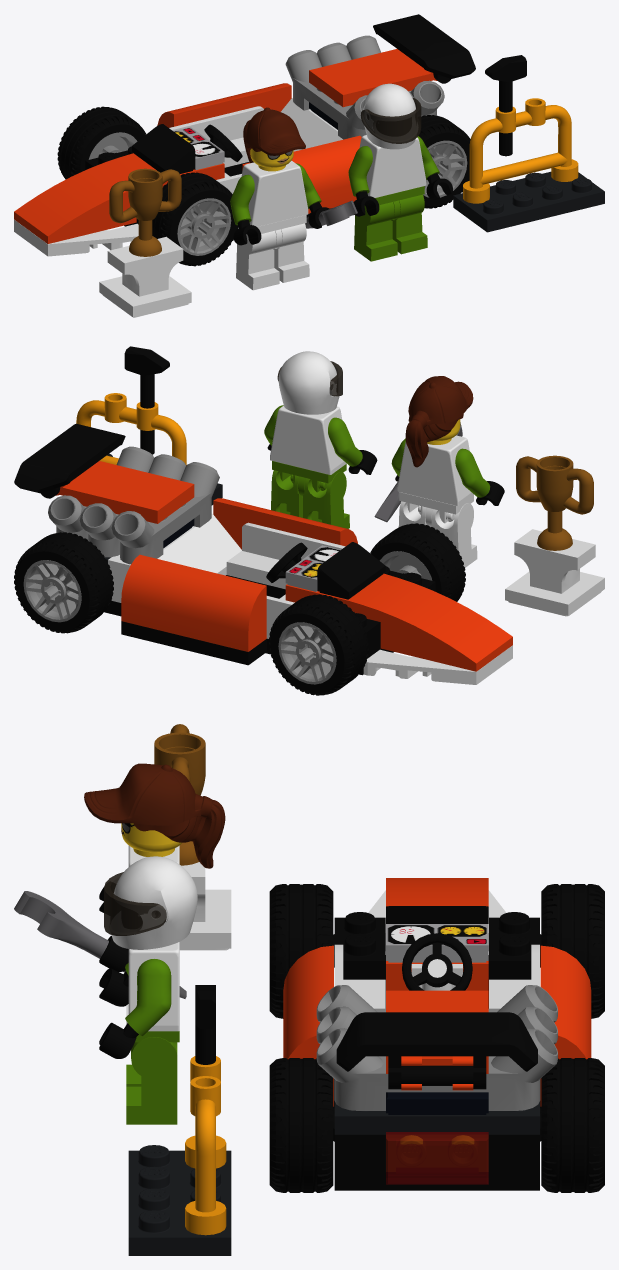
The model's file is Race Car.dae.
3 views of the same model, one above another, from view 1: azimuth 30°, elevation 25°; view 2: azimuth 150°, elevation 25°; view 3: azimuth 270°, elevation 25° (orthographic). The views are drawn at different scales.
Parts seen in each view (by area): view 1: Part.46, Part.35, Part.45, Part.37, Part.18, Part.57, Part.10, Part.23, Part.51, Part.26, Part.48, Part.15 (+33 smaller); view 2: Part.52, Part.46, Part.23, Part.24, Part.37, Part.18, Part.57, Part.48, Part.40, Part.53, Part.15, Part.26 (+28 smaller); view 3: Part.53, Part.57, Part.35, Part.25, Part.24, Part.40, Part.50, Part.26, Part.33, Part.34, Part.45, Part.23 (+26 smaller).
Part boxes in pixels (bbox=[...]): Part.46: bbox=[14, 153, 224, 243]; Part.35: bbox=[453, 171, 604, 232]; Part.45: bbox=[463, 98, 578, 203]; Part.37: bbox=[309, 49, 437, 107]; Part.18: bbox=[109, 168, 181, 256]; Part.57: bbox=[373, 14, 475, 83]; Part.10: bbox=[241, 160, 308, 226]; Part.23: bbox=[57, 106, 145, 179]; Part.51: bbox=[242, 135, 361, 213]; Part.26: bbox=[152, 172, 238, 266]; Part.48: bbox=[285, 50, 367, 139]; Part.15: bbox=[359, 135, 426, 197]; Part.52: bbox=[121, 554, 266, 651]; Part.46: bbox=[285, 573, 512, 671]; Part.23: bbox=[269, 594, 368, 695]; Part.24: bbox=[14, 532, 113, 633]; Part.37: bbox=[56, 461, 194, 523]; Part.18: bbox=[516, 455, 593, 550]; Part.57: bbox=[14, 423, 125, 498]; Part.48: bbox=[111, 462, 219, 564]; Part.40: bbox=[405, 376, 473, 467]; Part.53: bbox=[104, 566, 435, 675]; Part.15: bbox=[270, 405, 346, 474]; Part.26: bbox=[370, 523, 465, 601]; Part.53: bbox=[333, 912, 541, 1190]; Part.57: bbox=[336, 1012, 537, 1089]; Part.35: bbox=[128, 1145, 231, 1255]; Part.25: bbox=[269, 1058, 333, 1192]; Part.24: bbox=[541, 1058, 604, 1192]; Part.40: bbox=[84, 763, 225, 868]; Part.50: bbox=[316, 1028, 557, 1110]; Part.26: bbox=[269, 884, 333, 1018]; Part.33: bbox=[386, 1132, 488, 1184]; Part.34: bbox=[111, 856, 197, 949]; Part.45: bbox=[185, 1056, 226, 1235]; Part.23: bbox=[541, 884, 604, 1018].
Size of the model in its own units: 130 by 46.09 by 91.86.
18 materials, 3 textured.
